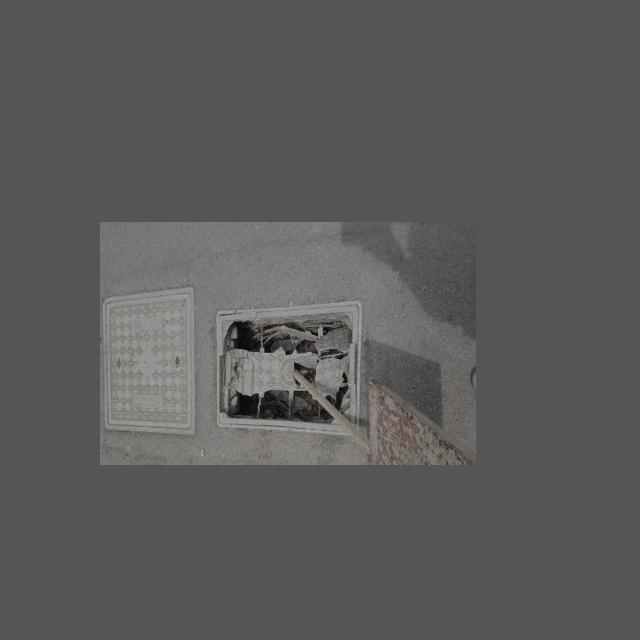broke: (214, 304, 360, 434)
good: (102, 287, 196, 435)
